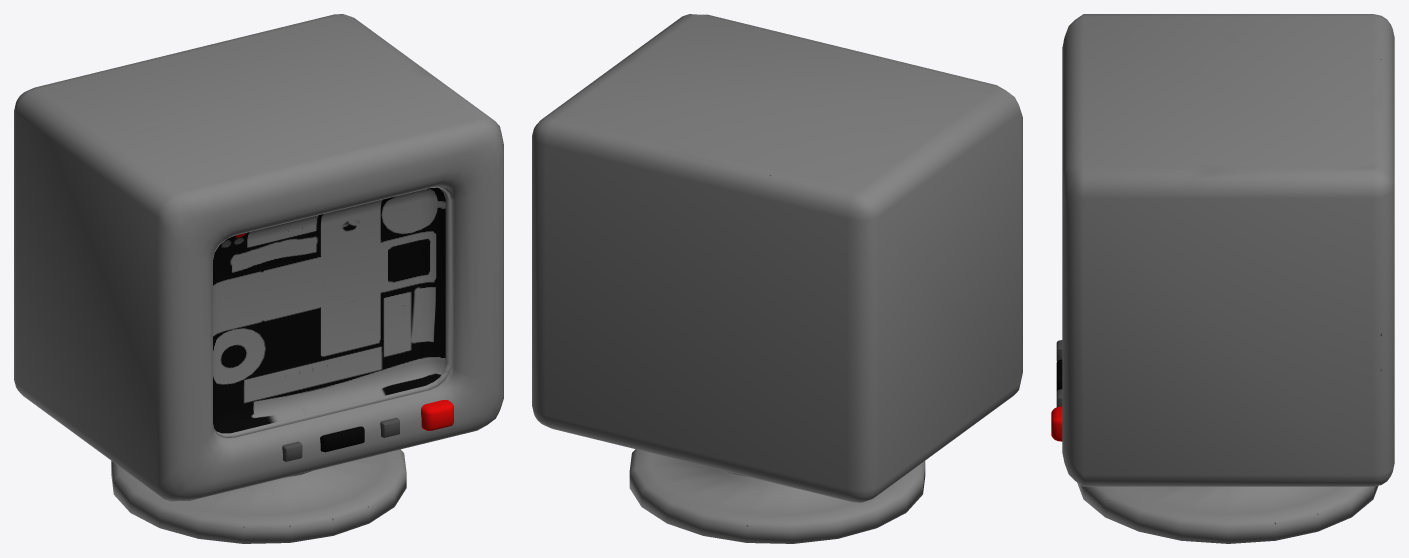
Rendered from Monitor.fbx.
3 views of the same model, side by side, from view 1: azimuth 30°, elevation 25°; view 2: azimuth 150°, elevation 25°; view 3: azimuth 270°, elevation 25° (orthographic). The views are drawn at different scales.
Visible parts, largest first — view 1: PhatCRT, Screen, Base; view 2: PhatCRT, Base; view 3: PhatCRT, Base.
Boxes of the visible parts, x1,y1,x2,y2 form: PhatCRT: (14,14,503,501); Screen: (213,187,445,433); Base: (111,449,406,543); PhatCRT: (532,14,1022,502); Base: (629,449,925,543); PhatCRT: (1051,14,1394,486); Base: (1077,482,1378,543).
Bounding box in the file's own units: 188 × 197 × 158.
